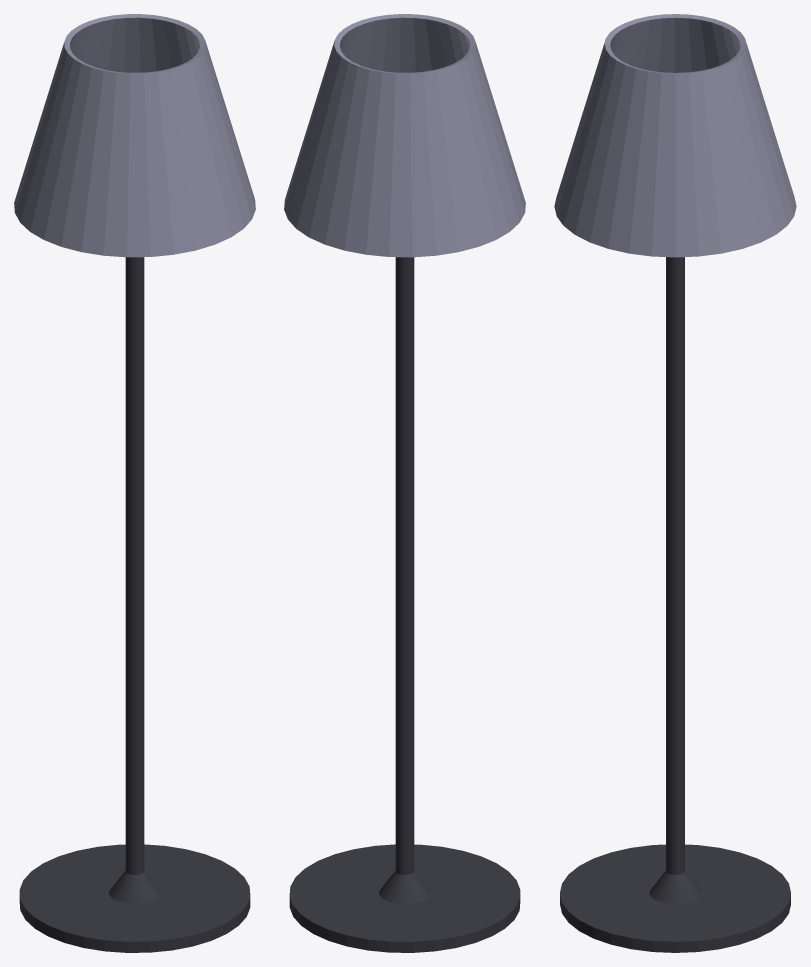
The model's file is lamp.glb.
3 views of the same model, side by side, from view 1: azimuth 30°, elevation 25°; view 2: azimuth 150°, elevation 25°; view 3: azimuth 270°, elevation 25° (orthographic).
Visible parts, largest first — view 1: Cube; view 2: Cube; view 3: Cube.
Boxes of the visible parts, x1=… form: Cube: x1=14, y1=14, x2=255, y2=952; Cube: x1=284, y1=14, x2=525, y2=952; Cube: x1=554, y1=14, x2=796, y2=952.
Size of the model in its own units: 0.4593 by 1.8 by 0.4593.
